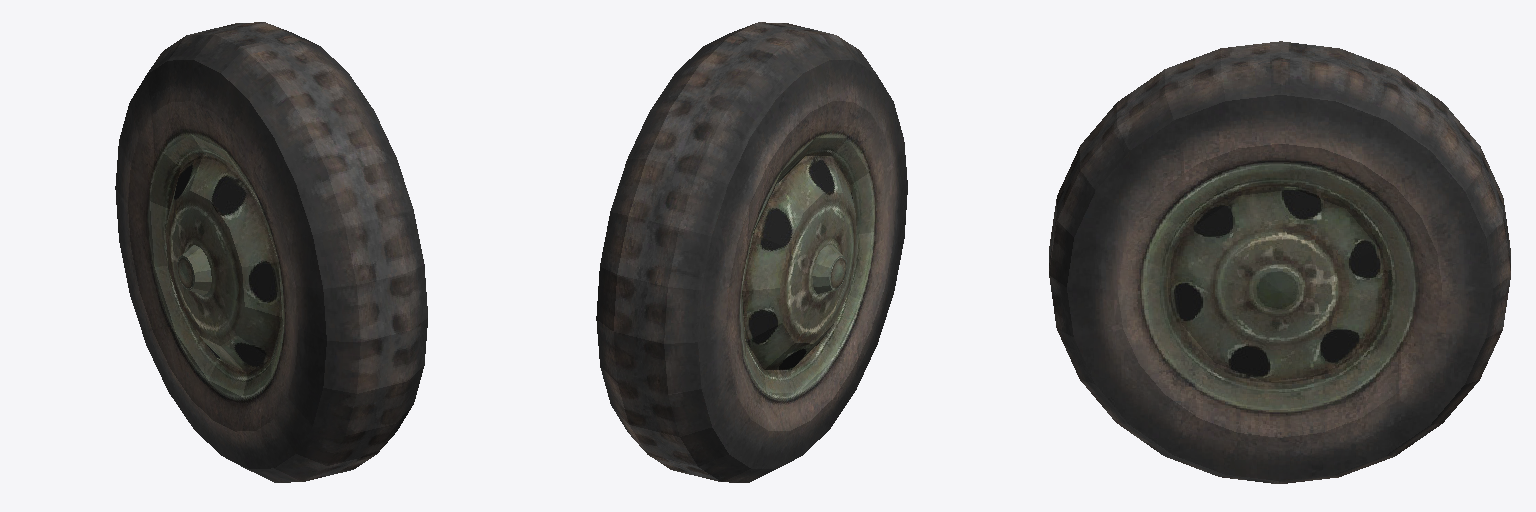
3 views of the same model, side by side, from view 1: azimuth 30°, elevation 25°; view 2: azimuth 150°, elevation 25°; view 3: azimuth 270°, elevation 25° (orthographic).
Parts seen in each view (by area): view 1: armytruck.001; view 2: armytruck.001; view 3: armytruck.001.
Part boxes in pixels (left/top/right/bottom): armytruck.001: left=115, top=22, right=427, bottom=482; armytruck.001: left=596, top=22, right=907, bottom=482; armytruck.001: left=1049, top=41, right=1510, bottom=483.
Size of the model in its own units: 1 by 2.77 by 2.78.
Materials: 1 (1 with a texture image).